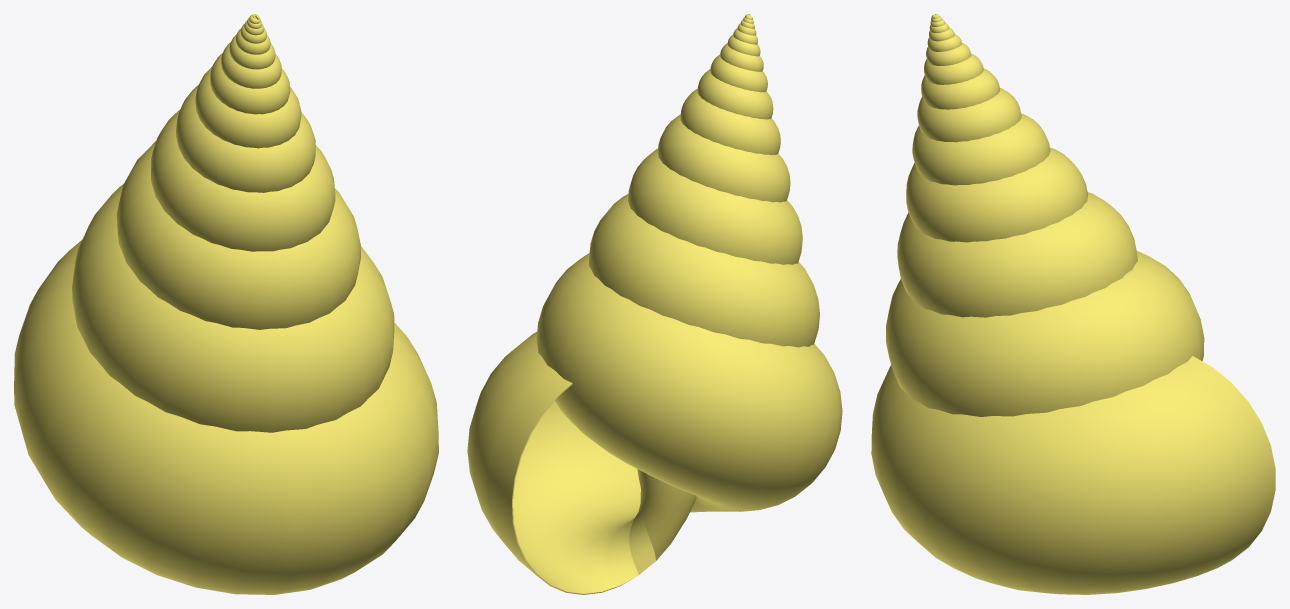
The model's file is Muschel.gltf.
The picture shows the model from 3 angles, left to right: view 1: azimuth 30°, elevation 25°; view 2: azimuth 150°, elevation 25°; view 3: azimuth 270°, elevation 25°; orthographic projection. The views are drawn at different scales.
Visible parts, largest first — view 1: Muschel; view 2: Muschel; view 3: Muschel.
Boxes of the visible parts, box(x1,y1,x2,y2) form: Muschel: box(14, 14, 438, 594); Muschel: box(467, 14, 842, 594); Muschel: box(871, 14, 1275, 594).
Size of the model in its own units: 1.36 by 2.11 by 1.43.
